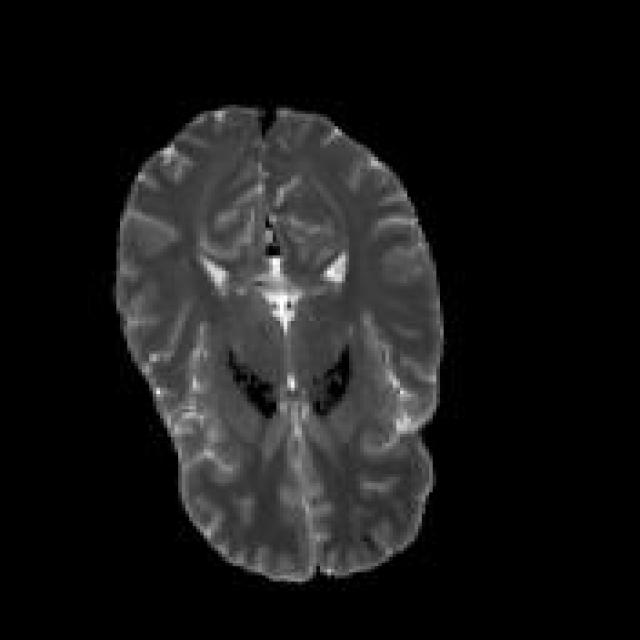CONTROL: (112, 101, 444, 582)
